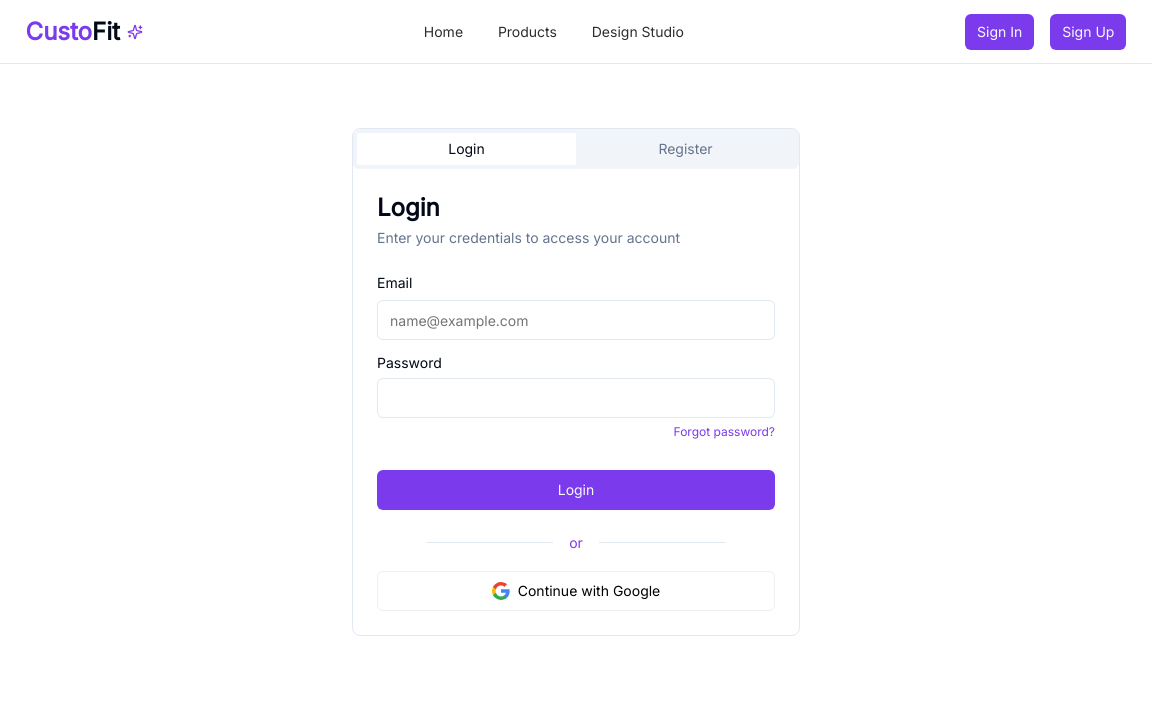
Test case: Login Page › toggles between login and signup modes
expect the button with class "login__btn" is shown: met, box 357,133 -> 576,165
Click the button with class "signup__btn": (686, 149) 576,133 -> 795,165
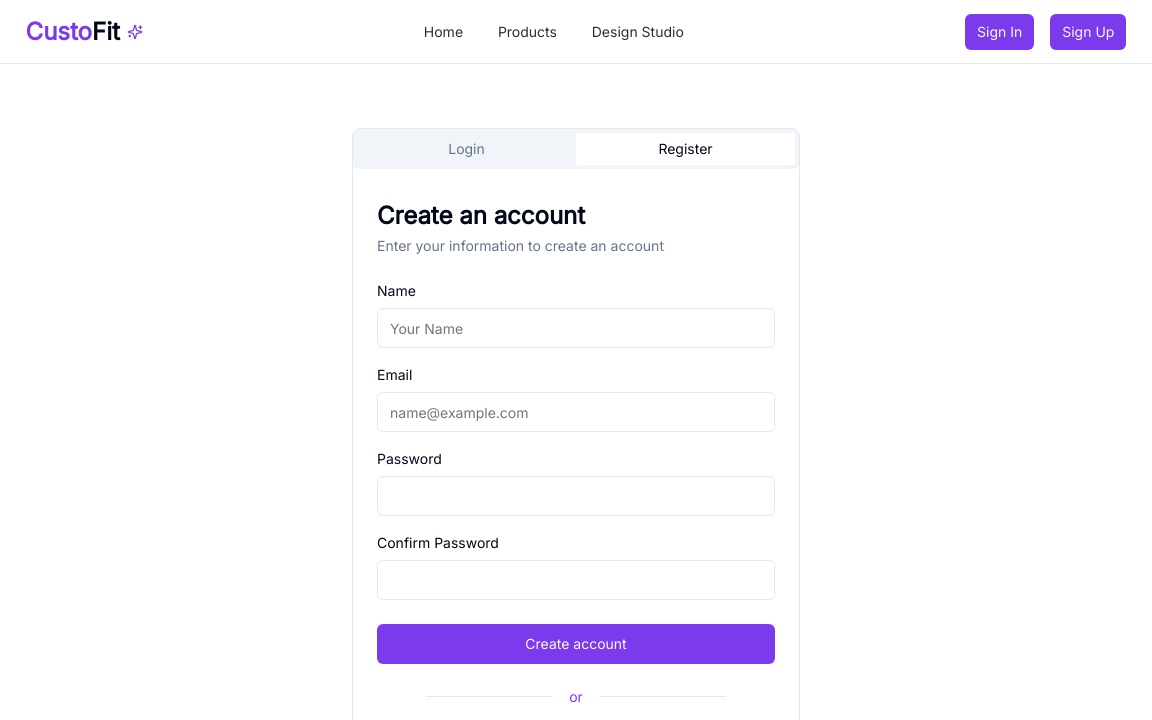
expect the field named "name" is shown: met, box 377,308 -> 775,348
expect the button with class "signup__btn" is shown: met, box 576,133 -> 795,165
expect the password field named "confirmPassword" is shown: met, box 377,560 -> 775,600
Click the button with class "login__btn": (467, 149) 357,133 -> 576,165
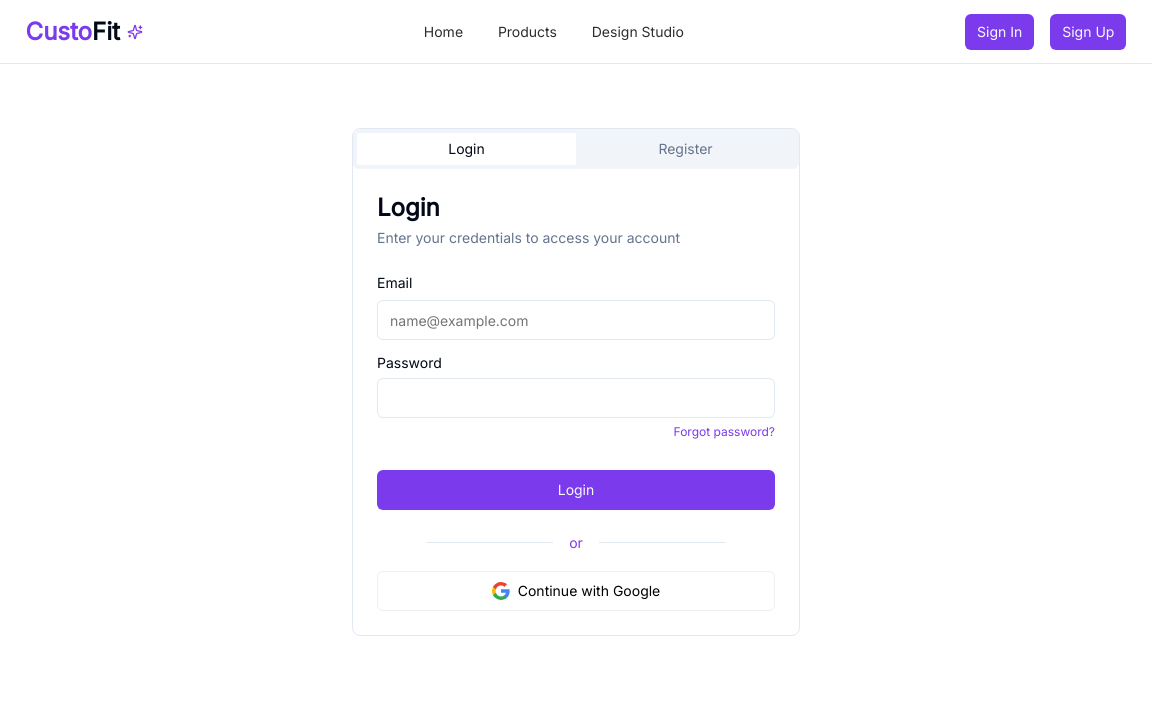
expect the button with class "login__btn" is shown: met, box 357,133 -> 576,165
expect the password field named "name" is gone: met
